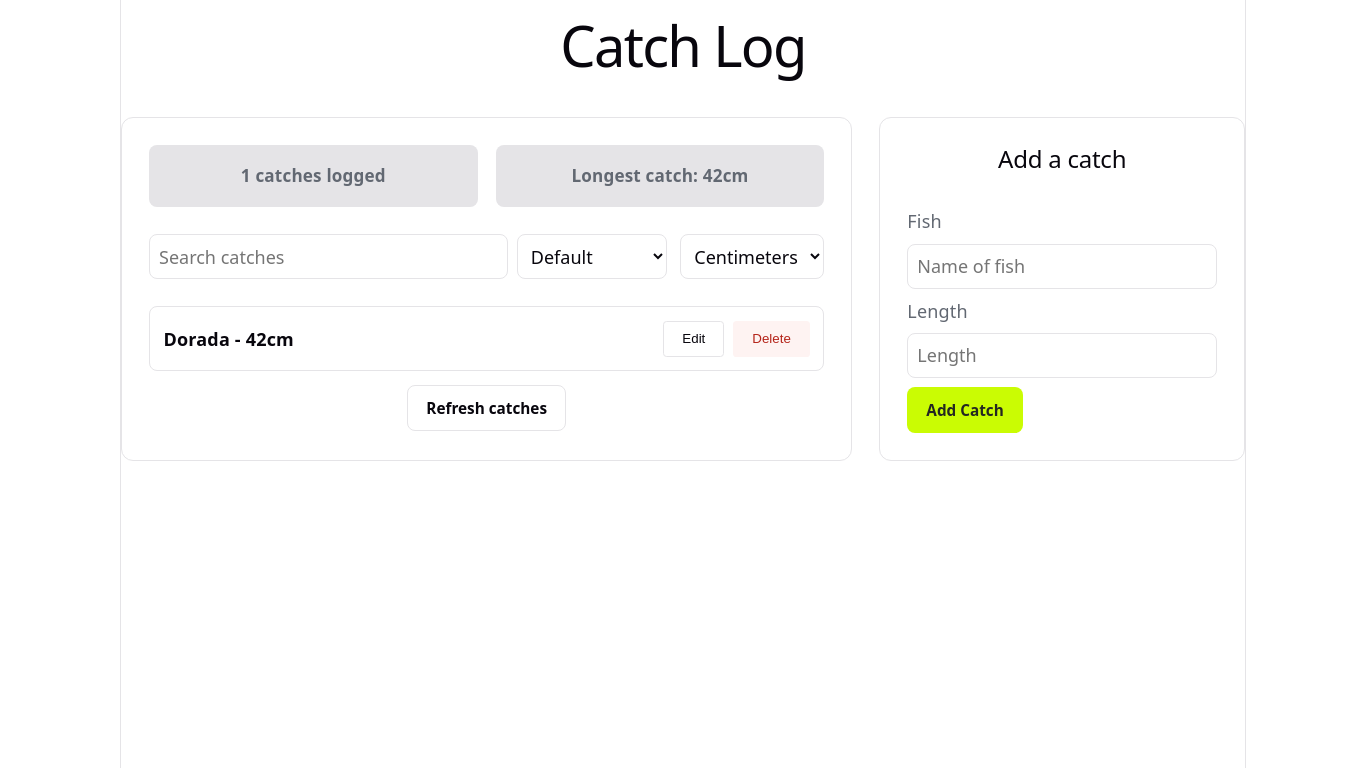
preserves a catch and allows retry after DELETE fails
Check: the link "Dorada" is shown, box x1=164 y1=327 x2=230 y2=351
Click the button "Delete": {"x": 772, "y": 339} x1=733 y1=321 x2=810 y2=357
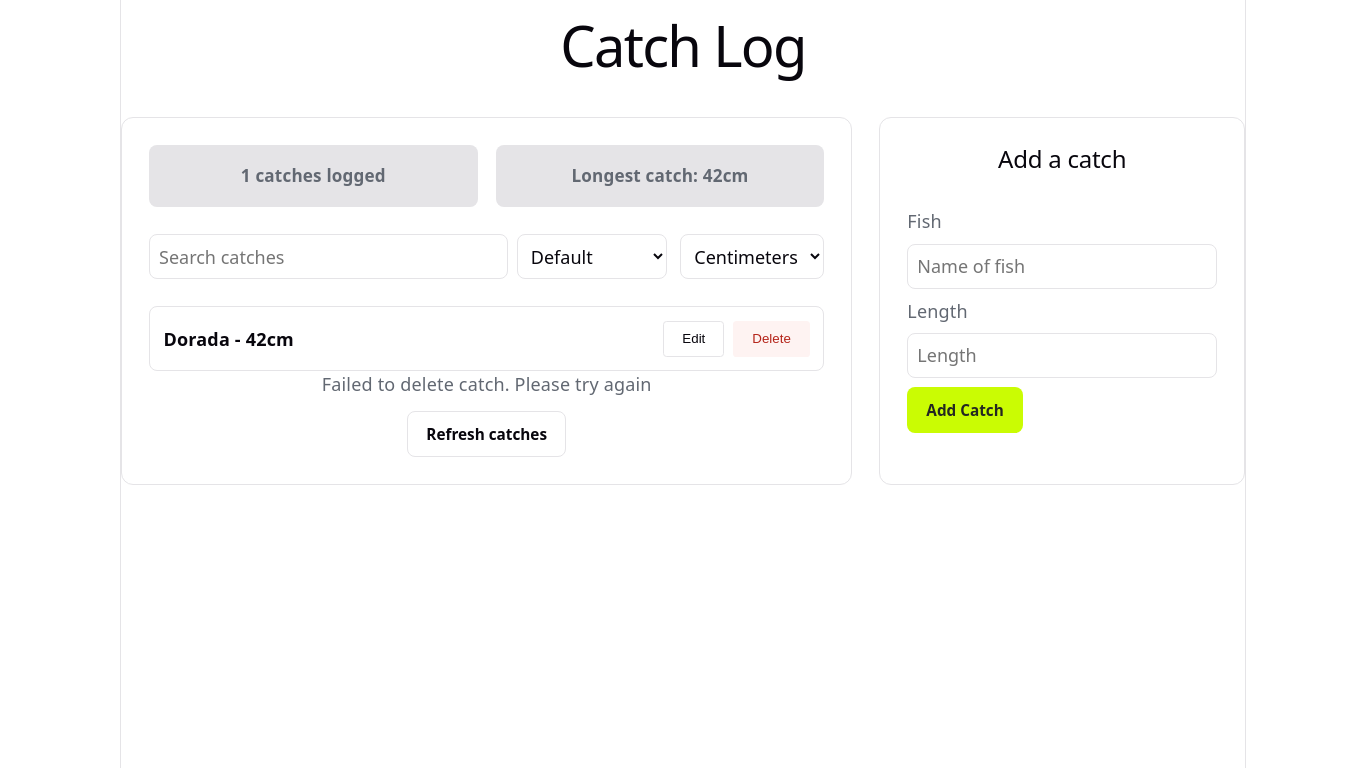
Check: the link "Dorada" is shown, box x1=164 y1=327 x2=230 y2=351
Check: the message shows "Failed to delete catch", box x1=322 y1=372 x2=652 y2=396
Click the button "Delete": {"x": 772, "y": 339} x1=733 y1=321 x2=810 y2=357
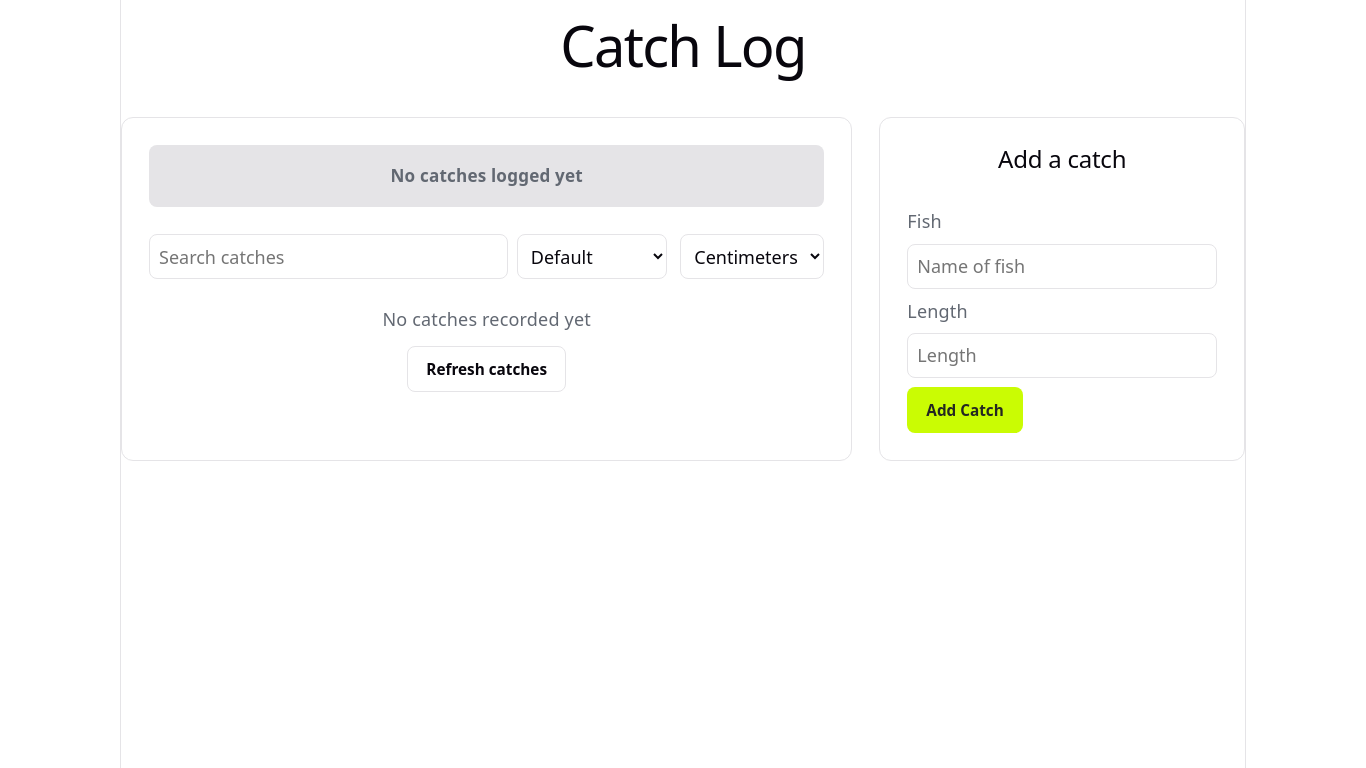
Check: the message "Failed to delete catch. Please try again" is gone
Check: the link "Dorada" is gone
